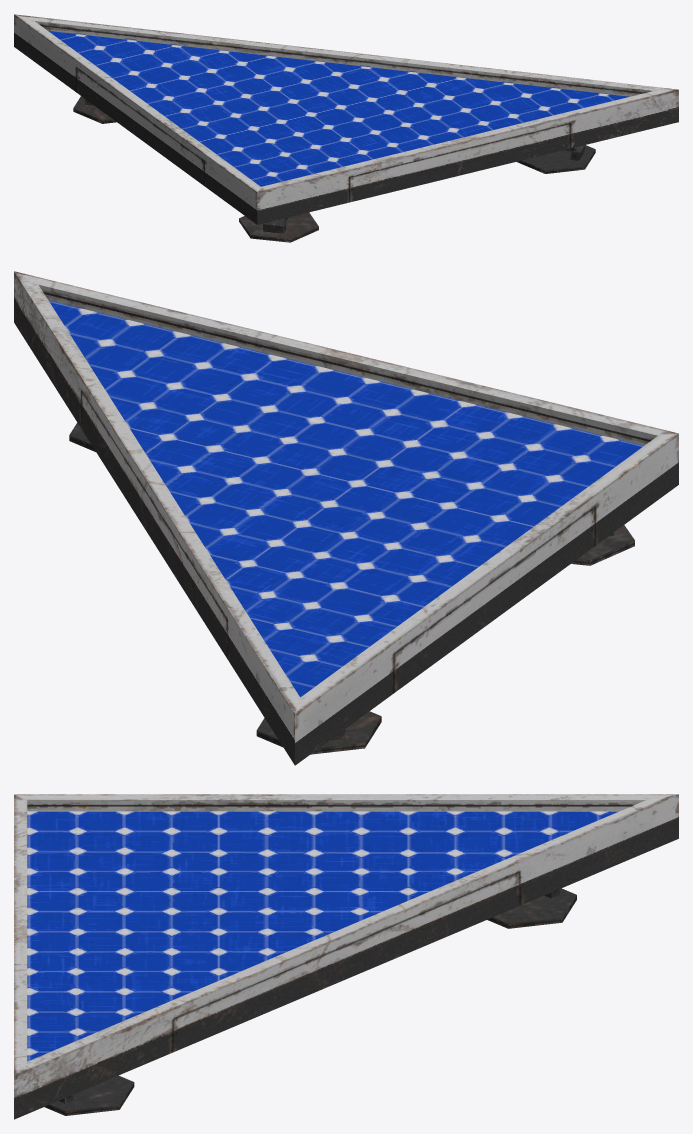
File: solar_panel.dae
The picture shows the model from 3 angles, top to bottom: view 1: azimuth 30°, elevation 25°; view 2: azimuth 150°, elevation 25°; view 3: azimuth 270°, elevation 25°; orthographic projection. The views are drawn at different scales.
Parts seen in each view (by area): view 1: solar_panel; view 2: solar_panel; view 3: solar_panel.
Part boxes in pixels (bbox=[...]): solar_panel: bbox=[14, 14, 678, 242]; solar_panel: bbox=[14, 271, 678, 765]; solar_panel: bbox=[14, 794, 678, 1119].
Size of the model in its own units: 15 by 15 by 2.09.
Materials: 1 (1 with a texture image).
